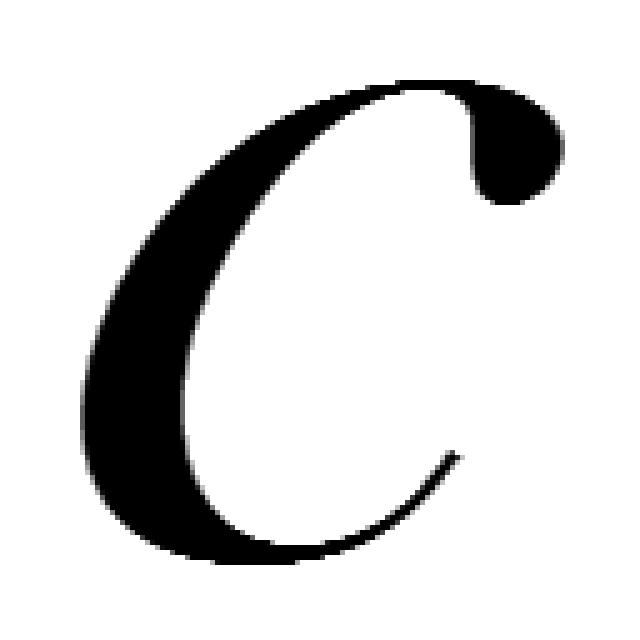C: (80, 80, 565, 570)
